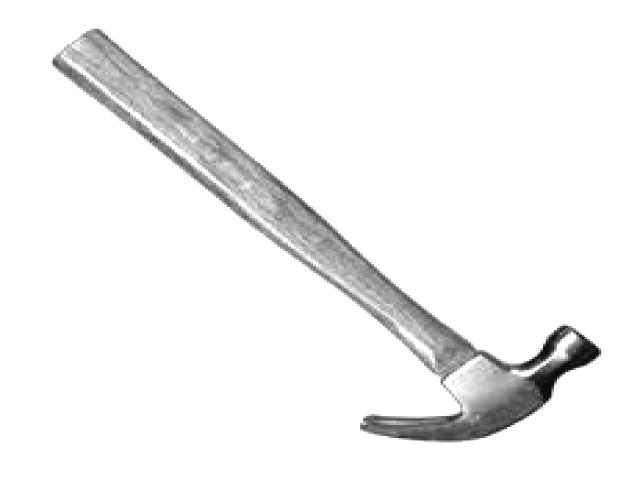Hammer: (54, 30, 598, 441)
